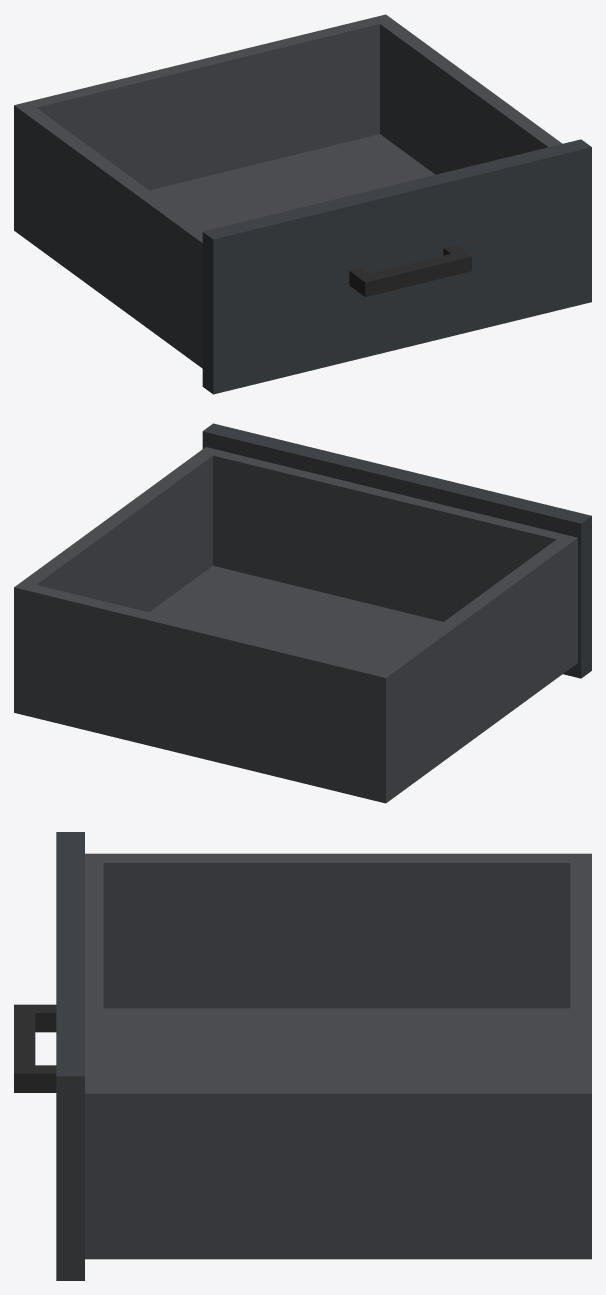
File: BedTable2_C2_02.fbx
3 renders of one model, top to bottom at view 1: azimuth 30°, elevation 25°; view 2: azimuth 150°, elevation 25°; view 3: azimuth 270°, elevation 25°, orthographic. The views are drawn at different scales.
Visible parts, largest first — view 1: BedTable2_C2_02; view 2: BedTable2_C2_02; view 3: BedTable2_C2_02.
Part boxes in pixels (box(x1,y1,x2,y2)): BedTable2_C2_02: box(14, 14, 591, 394); BedTable2_C2_02: box(14, 423, 591, 803); BedTable2_C2_02: box(14, 832, 591, 1280).
Size of the model in its own units: 40.5 by 15.83 by 40.51.
